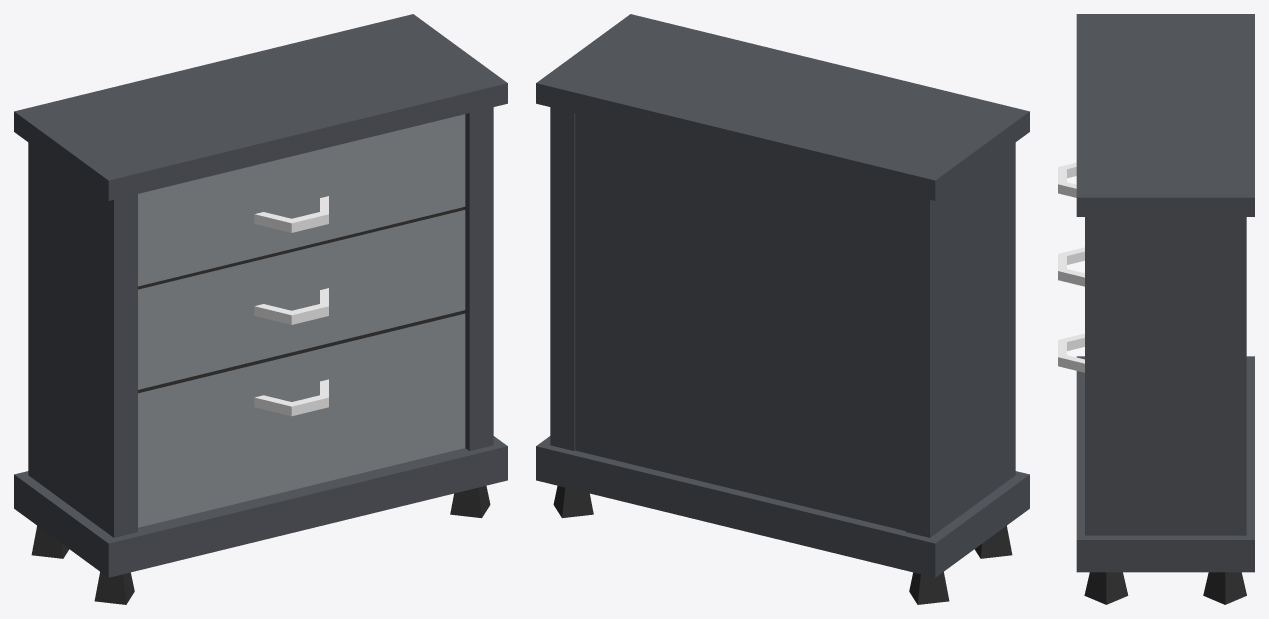
The model's file is Drawer_3C.fbx.
3 renders of one model, left to right at view 1: azimuth 30°, elevation 25°; view 2: azimuth 150°, elevation 25°; view 3: azimuth 270°, elevation 25°, orthographic. The views are drawn at different scales.
Parts seen in each view (by area): view 1: polySurface1697; view 2: polySurface1697; view 3: polySurface1697.
Boxes of the visible parts, x1,y1,x2,y2 form: polySurface1697: (14, 14, 507, 604); polySurface1697: (536, 14, 1029, 604); polySurface1697: (1058, 14, 1254, 604).
Bounding box in the file's own units: 1.83 × 1.9 × 0.8282.
Materials: 1 (1 with a texture image).
